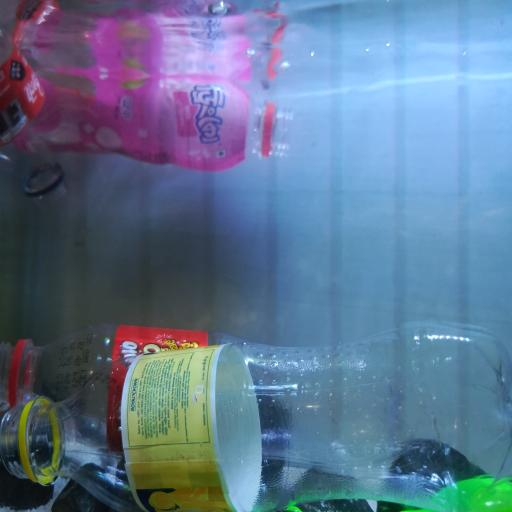plastic_bottle: (11, 330, 512, 512), (0, 322, 442, 482), (1, 59, 295, 174), (0, 28, 72, 204), (220, 474, 512, 512)
